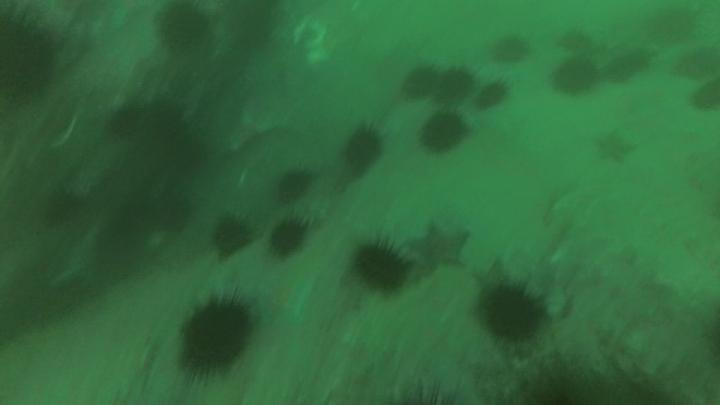echinus: (181, 306, 251, 367), (478, 284, 544, 343), (355, 244, 406, 294), (158, 3, 208, 53), (423, 114, 469, 152), (652, 9, 703, 43), (556, 57, 600, 94), (345, 128, 382, 170), (608, 48, 651, 84), (143, 100, 183, 137), (169, 135, 206, 173), (681, 46, 720, 79), (212, 219, 251, 252), (436, 69, 473, 103), (270, 220, 304, 256), (402, 67, 437, 101), (276, 170, 313, 201), (111, 105, 141, 138), (496, 35, 529, 61), (694, 81, 720, 113), (478, 83, 508, 108)
starfish: (409, 222, 469, 268), (596, 129, 637, 164)
